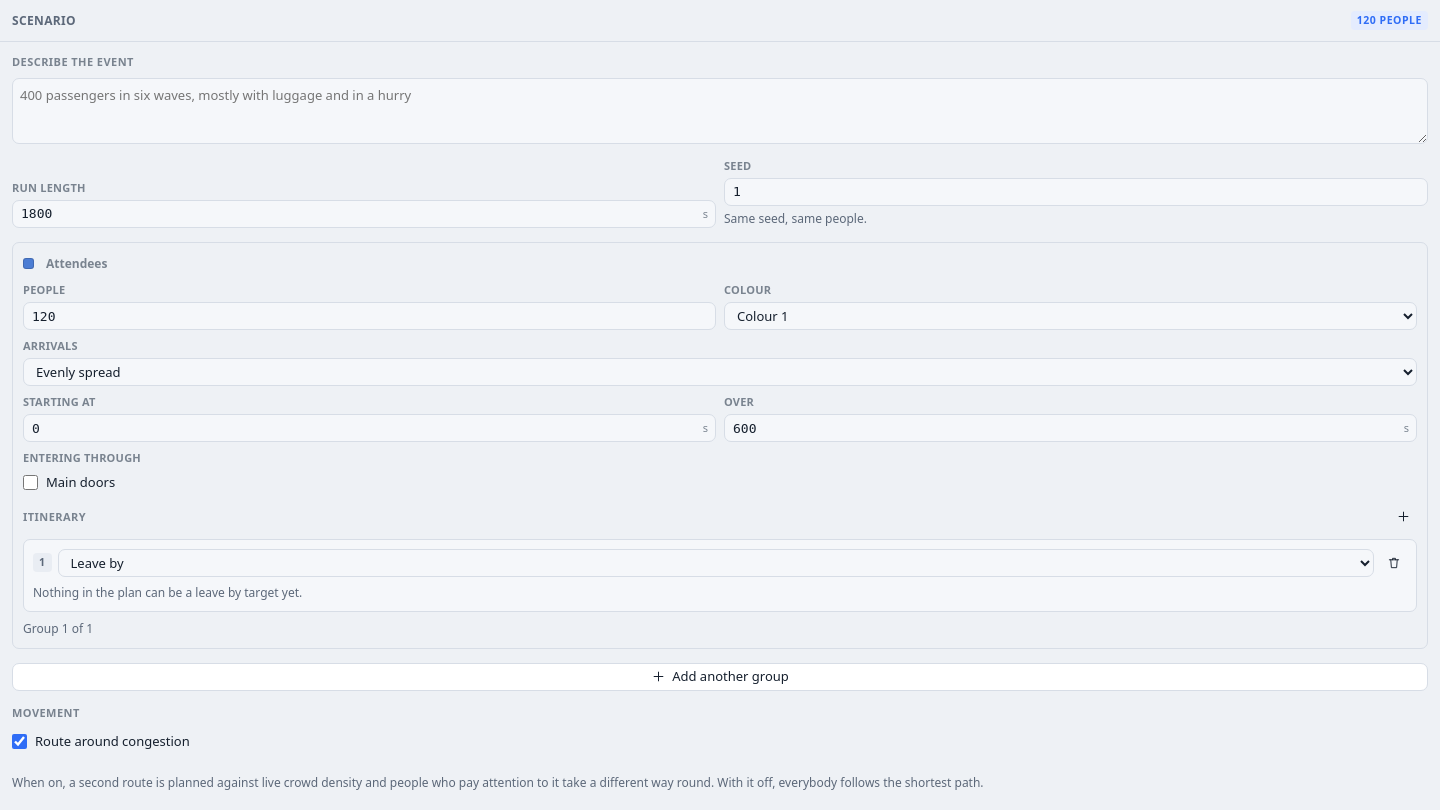
Test: the itinerary › offers only destinations that exist in the plan, and says so when none do
The image size is (1440, 810).
Expected: the text "Nothing in the plan can be a leave by target yet." is shown, [33, 584, 302, 601]
Select "Go to" in the dropdown showing "Leave by" at (716, 563), box [58, 549, 1374, 577]
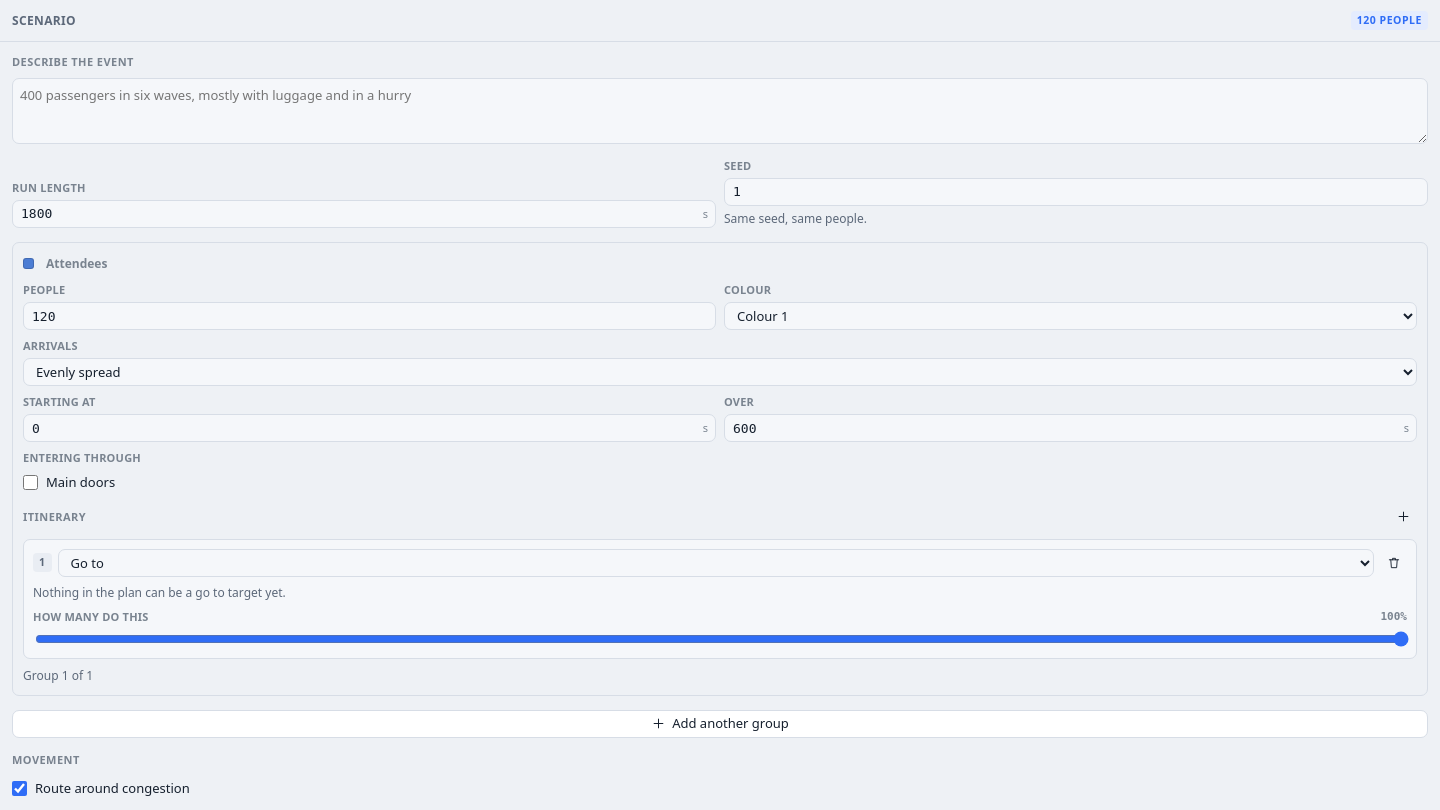
Expected: the text "Nothing in the plan can be a go to target yet." is shown, [33, 584, 286, 601]
